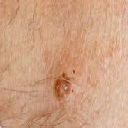Carcinoma: (53, 67, 80, 101)
